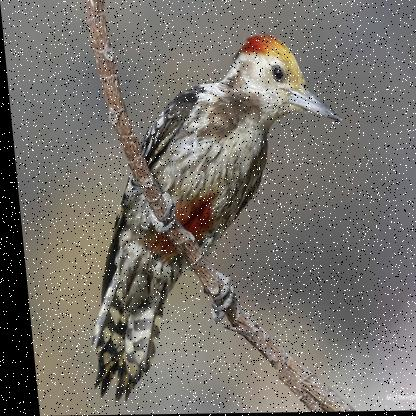Burung: (59, 34, 361, 403)
